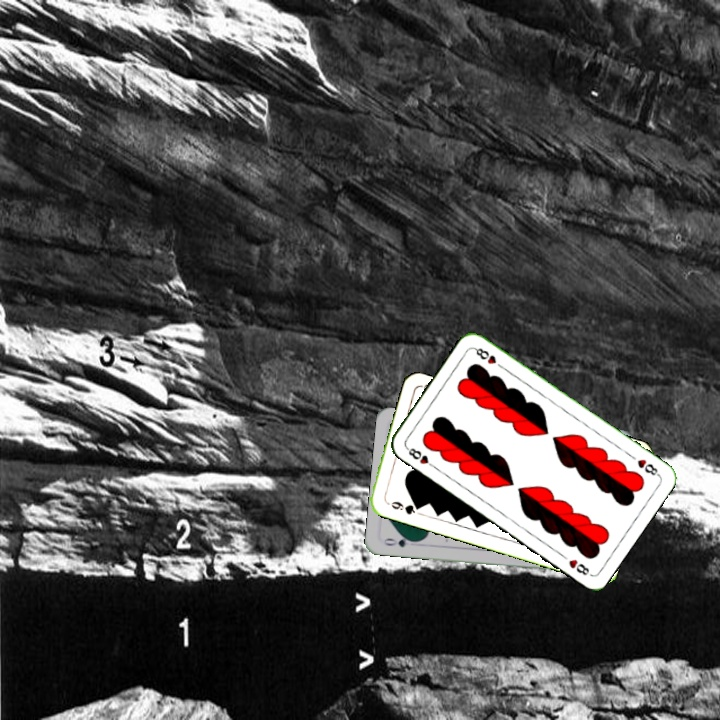G9: (387, 497, 423, 517)
GO: (380, 533, 420, 550)
H8: (402, 443, 438, 471), (633, 455, 662, 478)
